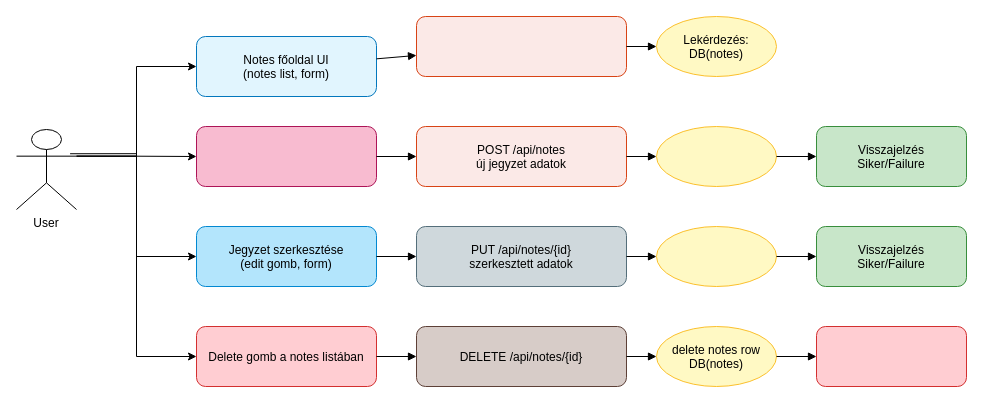
Image size: 983x403. Some labels were removed from this diagram. The shapes that lost their labels are listed below. From the top down, each one's centre as x and y in pixels, then its label:
the point at 521,46: GET /api/notes Saját notes lista
the point at 286,156: Új jegyzet beírása cím, content
the point at 716,156: new notes row DB(notes)
the point at 716,256: update notes row DB(notes)
the point at 891,356: Hiba kezelése (Hozzáférés, ID nincs)
